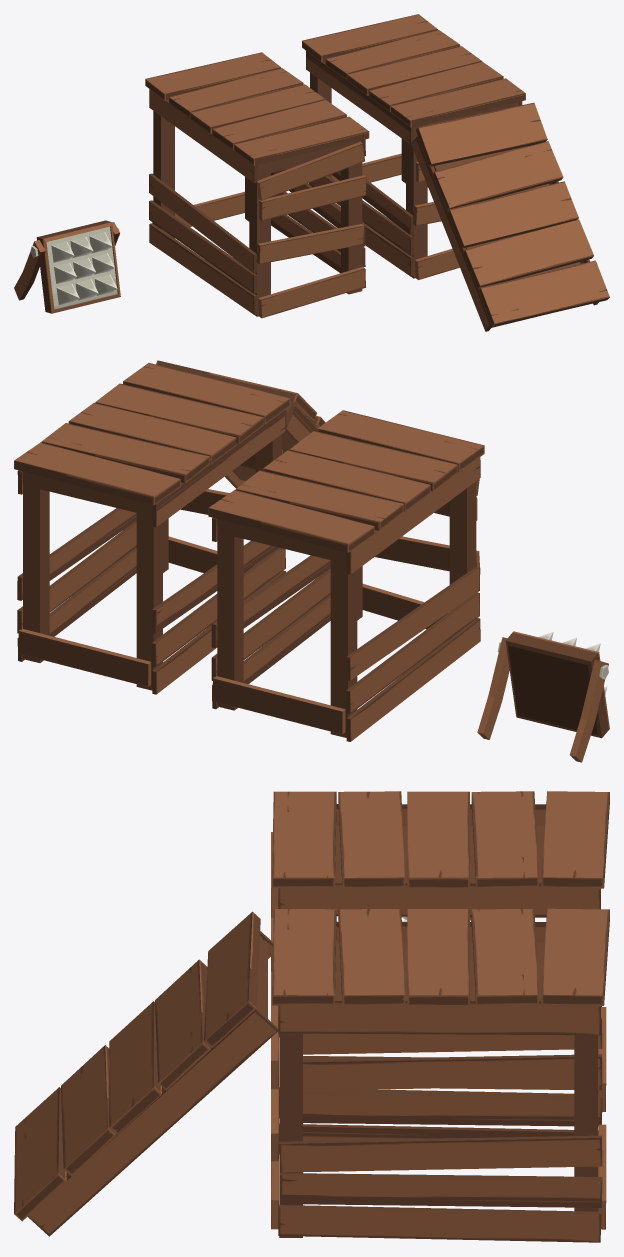
File: Obstackles.glb
The picture shows the model from 3 angles, top to bottom: view 1: azimuth 30°, elevation 25°; view 2: azimuth 150°, elevation 25°; view 3: azimuth 270°, elevation 25°; orthographic projection. The views are drawn at different scales.
Parts seen in each view (by area): view 1: Bridge with Stairs, Bridge platform, Spikes; view 2: Bridge platform, Bridge with Stairs, Spikes; view 3: Bridge with Stairs, Bridge platform.
Boxes of the visible parts, box(x1,y1,x2,y2) form: Bridge with Stairs: box(302, 14, 609, 331); Bridge platform: box(145, 52, 369, 318); Spikes: box(14, 220, 120, 313); Bridge platform: box(208, 410, 484, 741); Bridge with Stairs: box(14, 360, 325, 694); Spikes: box(477, 631, 609, 762); Bridge with Stairs: box(14, 908, 609, 1242); Bridge platform: box(271, 791, 609, 1117).
Bounding box in the file's own units: 5.12 × 1.84 × 3.99.
Materials: 1 (1 with a texture image).
